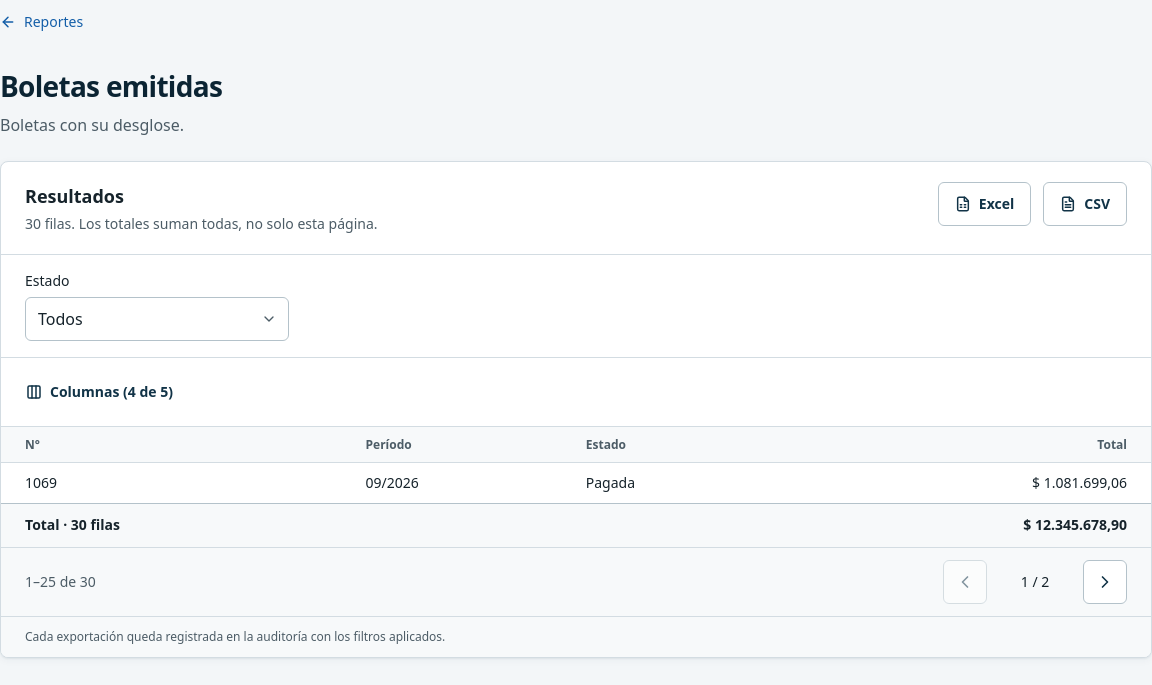
reporte genérico › muestra los totales de todas las filas y oculta las columnas no elegidas
The width and height of the screenshot is (1152, 685).
Check: the text "Total · 30 filas" is shown, box 1,503 -> 350,547
Check: the text "Excedente" is not shown
Click the button "Columnas (4 de 5)". click: (100, 392)
box: 9,370 -> 190,414
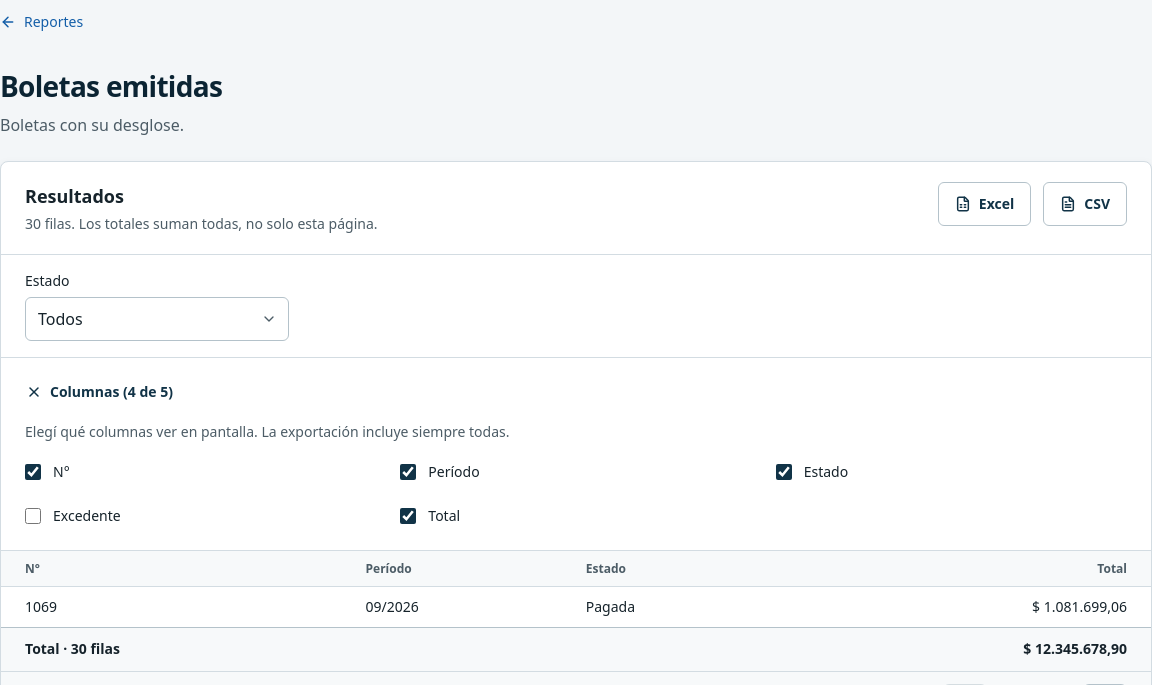
Click the checkbox labelled "Excedente". click: (33, 516)
box: 25,508 -> 41,524
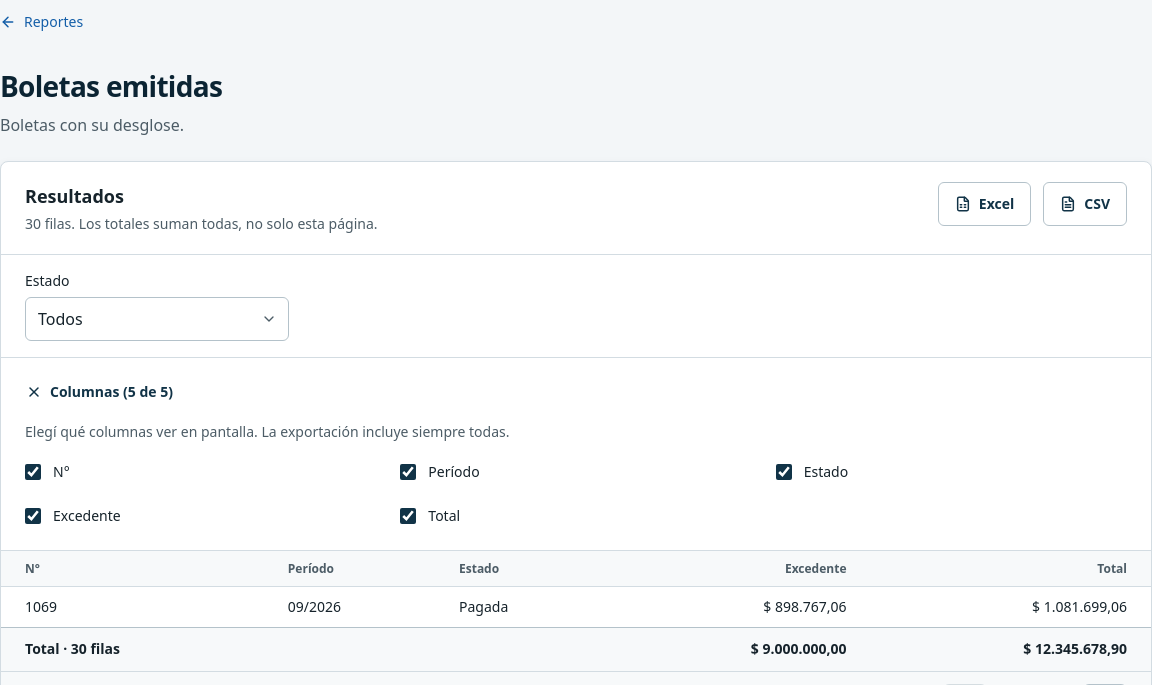
Check: the column heading "Excedente" is shown, box 606,551 -> 862,587
